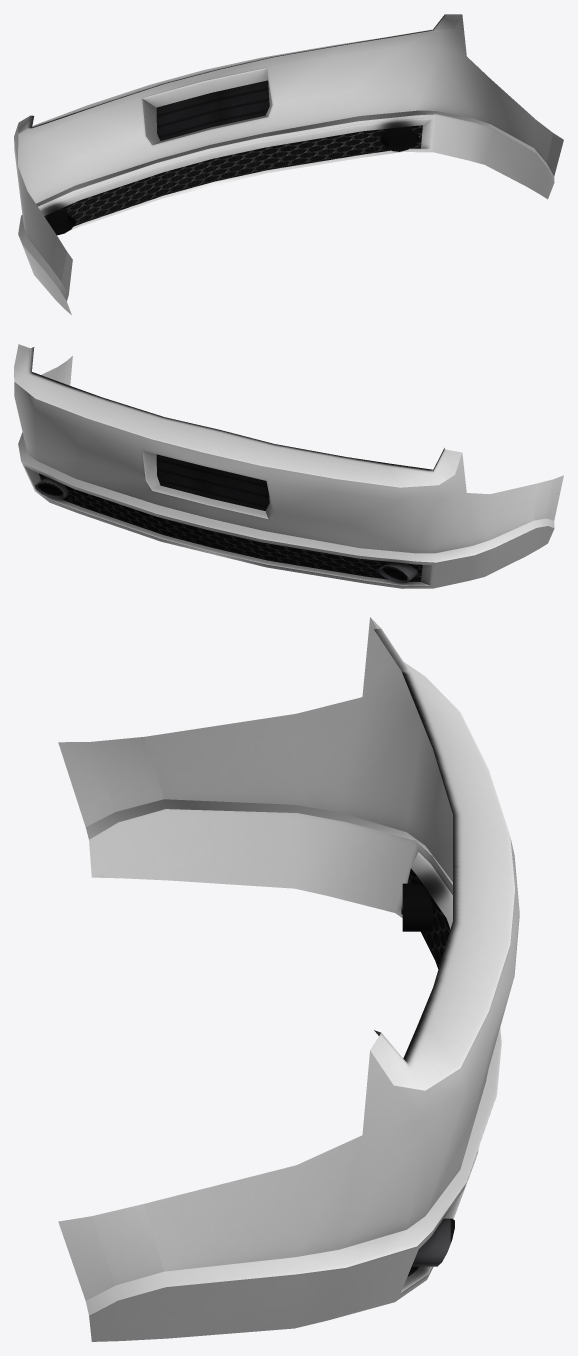
File: Sport_03_Bumper_B_2.fbx
The picture shows the model from 3 angles, top to bottom: view 1: azimuth 30°, elevation 25°; view 2: azimuth 150°, elevation 25°; view 3: azimuth 270°, elevation 25°; orthographic projection. The views are drawn at different scales.
Parts seen in each view (by area): view 1: Sport_03_Bumper_B_2; view 2: Sport_03_Bumper_B_2; view 3: Sport_03_Bumper_B_2.
Boxes of the visible parts, bbox=[...] form: Sport_03_Bumper_B_2: bbox=[14, 14, 563, 314]; Sport_03_Bumper_B_2: bbox=[14, 344, 563, 588]; Sport_03_Bumper_B_2: bbox=[58, 617, 519, 1341].
Size of the model in its own units: 210 by 57.14 by 85.35.
